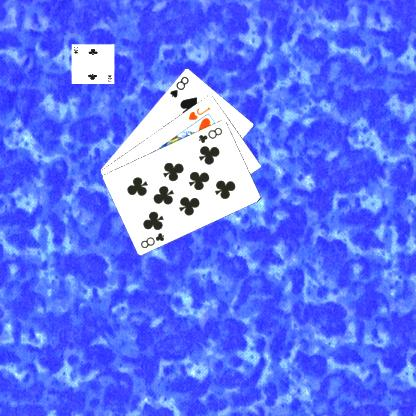8C: (196, 124, 224, 145), (138, 230, 166, 250)
8S: (167, 73, 190, 99)
JH: (185, 104, 212, 121)
